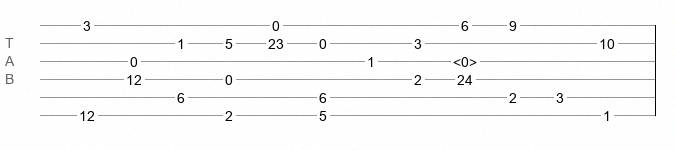0: (130, 54, 138, 64), (225, 72, 233, 82), (272, 18, 280, 28), (319, 36, 327, 46)
1: (177, 36, 185, 46), (367, 54, 375, 64), (603, 108, 611, 118)
10: (599, 36, 615, 46)
12: (79, 108, 95, 118), (126, 72, 142, 82)
2: (225, 108, 233, 118), (414, 72, 422, 82), (509, 90, 517, 100)
23: (268, 36, 284, 46)
24: (457, 72, 473, 82)
3: (83, 18, 91, 28), (414, 36, 422, 46), (556, 90, 564, 100)
5: (225, 36, 233, 46), (319, 108, 327, 118)
6: (177, 90, 185, 100), (319, 90, 327, 100), (461, 18, 469, 28)
9: (509, 18, 517, 28)
harmonic: (453, 54, 477, 64)
